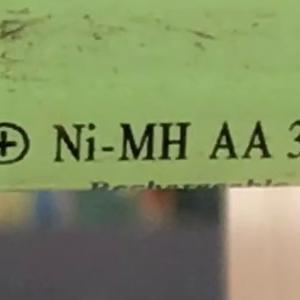keyword: (43, 112, 190, 172)
